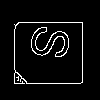S: (28, 23, 81, 64)
